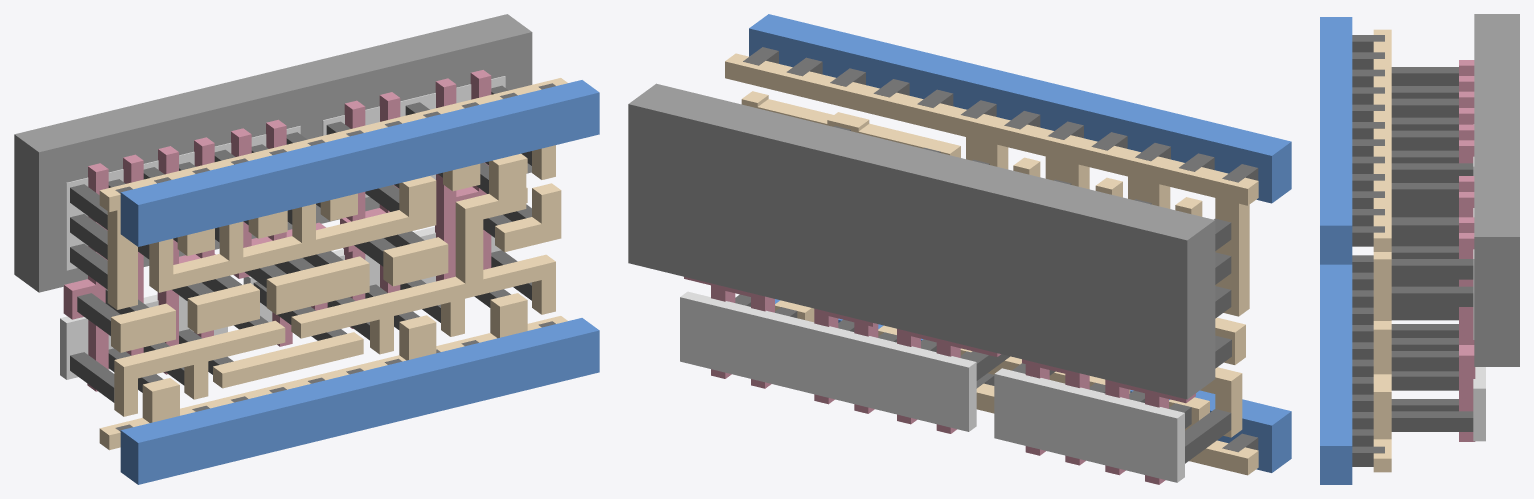
File: sky130_fd_sc_hd__a311oi_2.gds.gltf
The picture shows the model from 3 angles, left to right: view 1: azimuth 30°, elevation 25°; view 2: azimuth 150°, elevation 25°; view 3: azimuth 270°, elevation 25°; orthographic projection. The views are drawn at different scales.
Parts seen in each view (by area): view 1: sky130_fd_sc_hd__a311oi_2_li1, sky130_fd_sc_hd__a311oi_2_met1, sky130_fd_sc_hd__a311oi_2_nwell, sky130_fd_sc_hd__a311oi_2_licon, sky130_fd_sc_hd__a311oi_2_poly, sky130_fd_sc_hd__a311oi_2_diff, sky130_fd_sc_hd__a311oi_2_mcon; view 2: sky130_fd_sc_hd__a311oi_2_nwell, sky130_fd_sc_hd__a311oi_2_diff, sky130_fd_sc_hd__a311oi_2_li1, sky130_fd_sc_hd__a311oi_2_met1, sky130_fd_sc_hd__a311oi_2_mcon, sky130_fd_sc_hd__a311oi_2_poly, sky130_fd_sc_hd__a311oi_2_licon; view 3: sky130_fd_sc_hd__a311oi_2_licon, sky130_fd_sc_hd__a311oi_2_nwell, sky130_fd_sc_hd__a311oi_2_met1, sky130_fd_sc_hd__a311oi_2_mcon, sky130_fd_sc_hd__a311oi_2_li1, sky130_fd_sc_hd__a311oi_2_poly, sky130_fd_sc_hd__a311oi_2_diff.
Part boxes in pixels (left/top/right/bottom): sky130_fd_sc_hd__a311oi_2_li1: left=99, top=78, right=567, bottom=450; sky130_fd_sc_hd__a311oi_2_met1: left=120, top=80, right=599, bottom=484; sky130_fd_sc_hd__a311oi_2_nwell: left=14, top=14, right=532, bottom=292; sky130_fd_sc_hd__a311oi_2_licon: left=70, top=85, right=531, bottom=402; sky130_fd_sc_hd__a311oi_2_poly: left=63, top=70, right=491, bottom=391; sky130_fd_sc_hd__a311oi_2_diff: left=60, top=76, right=505, bottom=379; sky130_fd_sc_hd__a311oi_2_mcon: left=115, top=83, right=555, bottom=431; sky130_fd_sc_hd__a311oi_2_nwell: left=628, top=83, right=1215, bottom=399; sky130_fd_sc_hd__a311oi_2_diff: left=680, top=291, right=1184, bottom=482; sky130_fd_sc_hd__a311oi_2_li1: left=725, top=53, right=1258, bottom=475; sky130_fd_sc_hd__a311oi_2_met1: left=749, top=14, right=1291, bottom=472; sky130_fd_sc_hd__a311oi_2_mcon: left=743, top=47, right=1258, bottom=452; sky130_fd_sc_hd__a311oi_2_poly: left=684, top=277, right=1195, bottom=484; sky130_fd_sc_hd__a311oi_2_licon: left=735, top=126, right=1231, bottom=463; sky130_fd_sc_hd__a311oi_2_licon: left=1391, top=67, right=1473, bottom=431; sky130_fd_sc_hd__a311oi_2_nwell: left=1474, top=14, right=1519, bottom=366; sky130_fd_sc_hd__a311oi_2_met1: left=1320, top=17, right=1352, bottom=484; sky130_fd_sc_hd__a311oi_2_mcon: left=1352, top=35, right=1384, bottom=466; sky130_fd_sc_hd__a311oi_2_li1: left=1373, top=29, right=1391, bottom=472; sky130_fd_sc_hd__a311oi_2_poly: left=1459, top=60, right=1475, bottom=441; sky130_fd_sc_hd__a311oi_2_diff: left=1473, top=124, right=1485, bottom=441.
Bounding box in the file's own units: 5.9 × 3.2 × 2.24.
